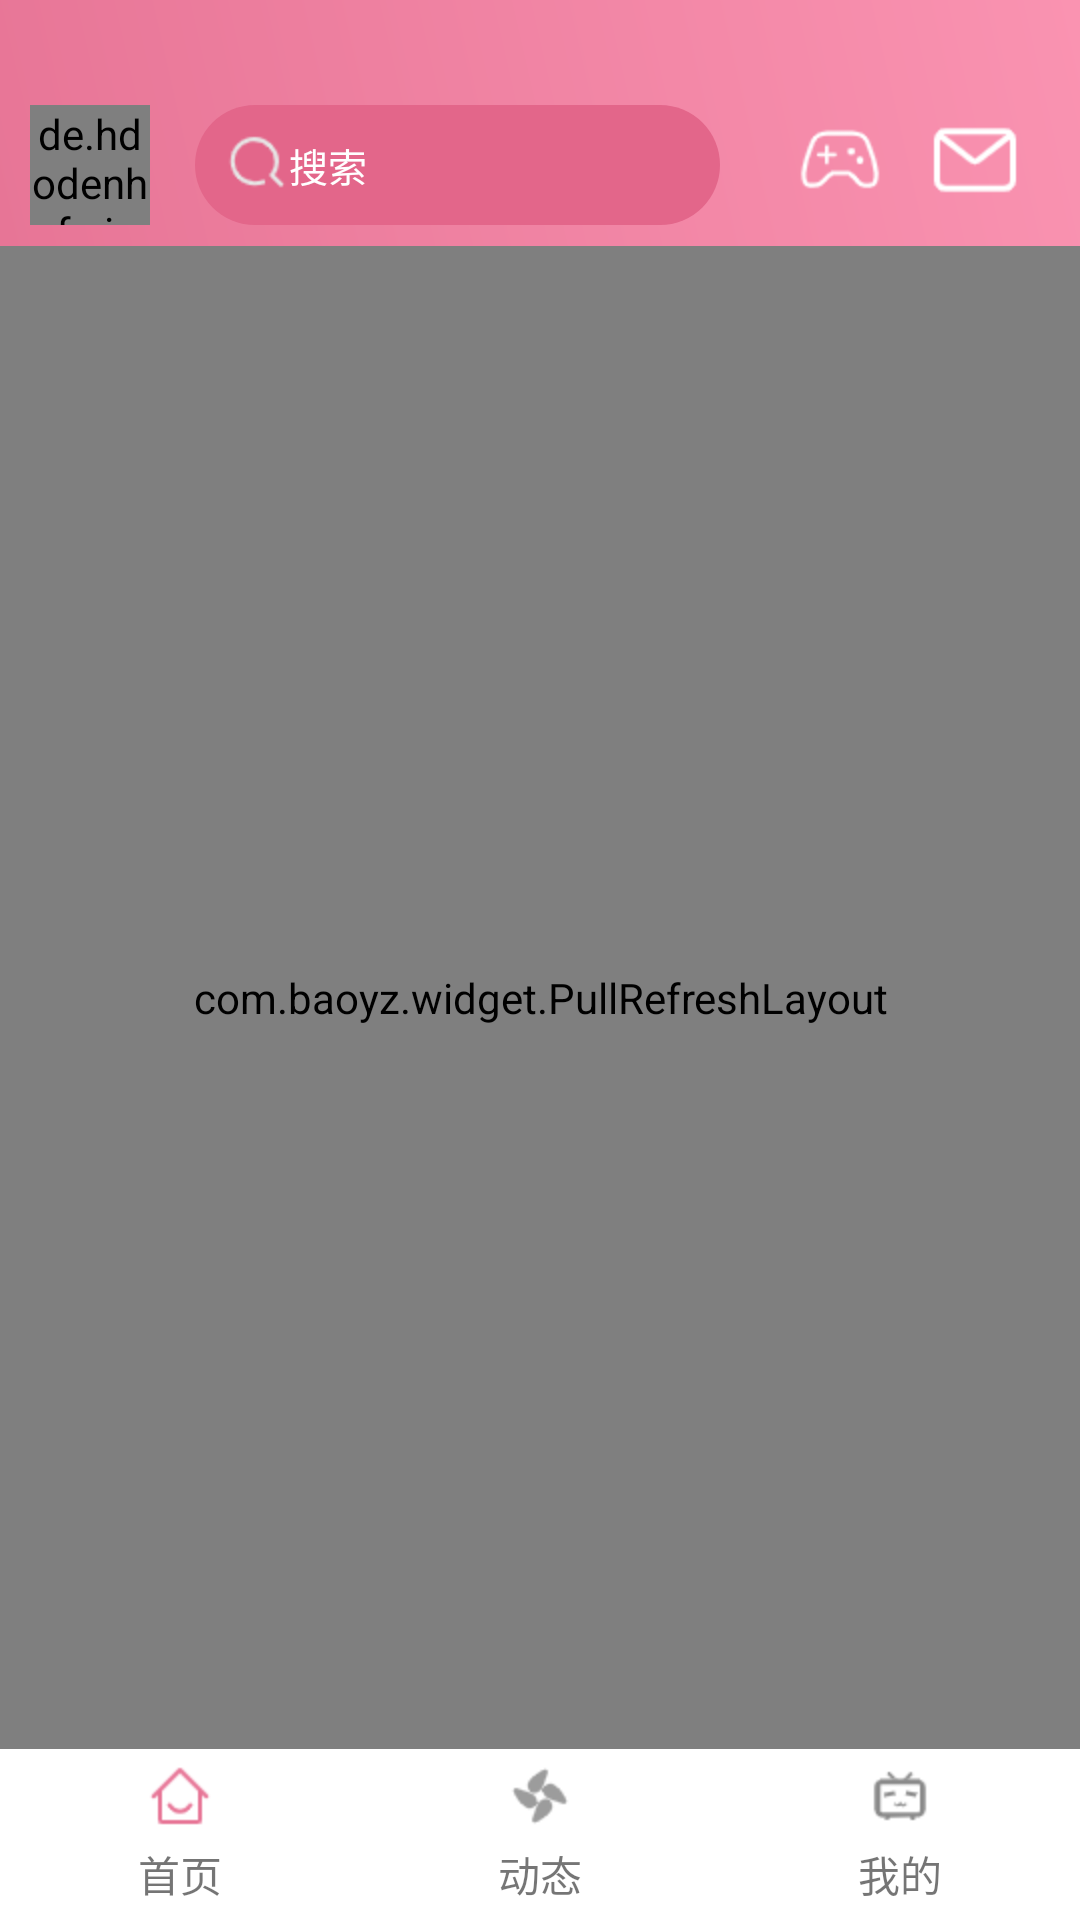

Locate icon controls on the screen. Image size 1080*1920, boxes as (x1, y1, x2, y2).
email: (933, 128, 1017, 192)
game: (801, 130, 879, 188)
